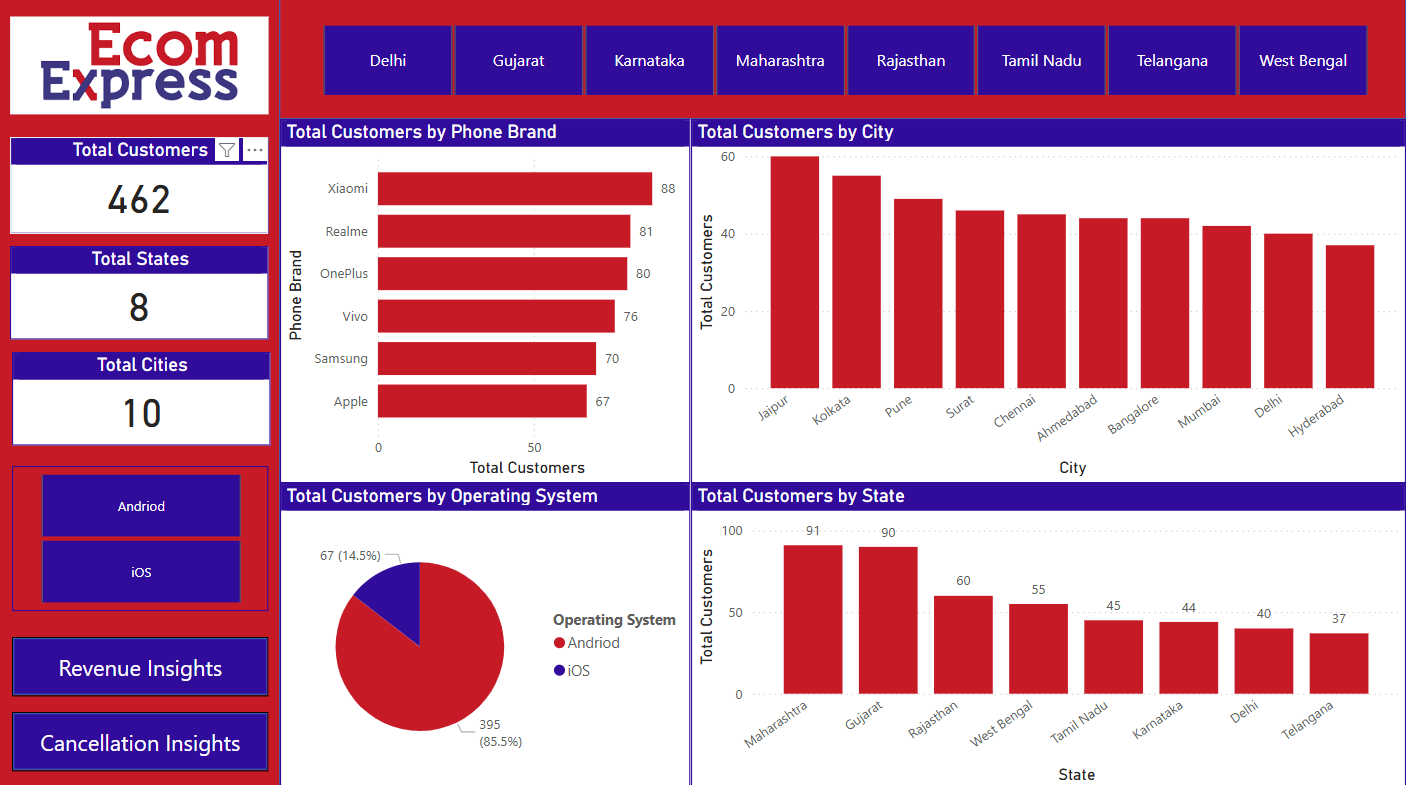

This screenshot's page, from the dashboard's own definition file:
{"tool":"powerbi","page":{"name":"Customer Insights","canvas":[1280,720],"ordinal":1},"visuals":[{"type":"shape","box":[0,0,1280.3,111.1],"z":0},{"type":"shape","box":[0,0,256.6,720.4],"z":1000},{"type":"image","box":[0,12.3,256.6,98.8],"z":2000},{"type":"slicer","fields":{"Values":["Customers.State"]},"box":[270.3,19.2,999,76.8],"z":3000},{"type":"columnChart","fields":{"Category":["Customers.City"],"Y":["table.Total Customers"]},"box":[629.8,111.1,650.4,330.7],"z":4000},{"type":"barChart","fields":{"Category":["Customers.Phone Brand"],"Y":["table.Total Customers"]},"box":[256.6,111.1,373.2,330.7],"z":5000},{"type":"columnChart","fields":{"Category":["Customers.State"],"Y":["table.Total Customers"]},"box":[629.8,441.9,650.4,278.6],"z":7000},{"type":"shape","box":[12.3,650.4,233.3,53.5],"z":8000},{"type":"slicer","fields":{"Values":["Customers.Operating System"]},"box":[12.3,426.8,233.3,131.7],"z":9000},{"type":"card","title":"Total Customers","fields":{"Values":["table.Total Customers"]},"box":[11,127.6,234.6,87.8],"z":10000},{"type":"shape","box":[12.3,581.8,233.3,53.5],"z":11000},{"type":"card","title":"Total States","fields":{"Values":["Count(Customers.State)"]},"box":[11,226.4,234.6,85.1],"z":12000},{"type":"card","title":"Total Cities","fields":{"Values":["Count(Customers.City)"]},"box":[12.3,322.5,234.6,85.1],"z":13000},{"type":"pieChart","fields":{"Y":["table.Total Customers"],"Category":["Customers.Operating System"]},"box":[256.6,441.9,373.2,278.6],"z":14000}]}

Visuals, with their boxes in screenshot pixels (x1, y1, x2, y2), scaled from the page's 1280x720 canvas onto the 1406x785 screenshot:
shape: box(0, 0, 1405, 121)
shape: box(0, 0, 282, 784)
image: box(0, 13, 282, 121)
slicer - Customers.State: box(297, 21, 1394, 105)
columnChart - Customers.City x table.Total Customers: box(692, 121, 1405, 482)
barChart - Customers.Phone Brand x table.Total Customers: box(282, 121, 692, 482)
columnChart - Customers.State x table.Total Customers: box(692, 482, 1405, 784)
shape: box(14, 709, 270, 767)
slicer - Customers.Operating System: box(14, 465, 270, 609)
"Total Customers" card: box(12, 139, 270, 235)
shape: box(14, 634, 270, 693)
"Total States" card: box(12, 247, 270, 340)
"Total Cities" card: box(14, 352, 271, 444)
pieChart - table.Total Customers x Customers.Operating System: box(282, 482, 692, 784)
